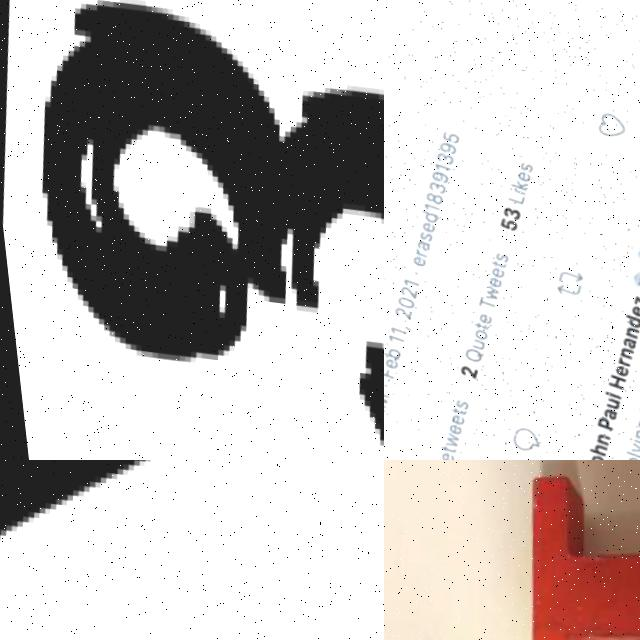0: (384, 294, 406, 310)
1: (391, 277, 413, 292), (423, 162, 446, 176), (413, 202, 433, 215), (384, 324, 397, 339), (384, 332, 395, 346)
2: (444, 363, 467, 382), (388, 286, 408, 300), (384, 306, 402, 321)
3: (0, 0, 384, 460), (490, 205, 514, 223), (417, 180, 441, 197), (426, 151, 447, 167)
5: (489, 217, 512, 234), (433, 131, 454, 145)
8: (414, 191, 437, 207)
9: (420, 169, 444, 187), (429, 141, 452, 157)
I: (489, 460, 640, 640)
Y: (0, 460, 384, 640)
